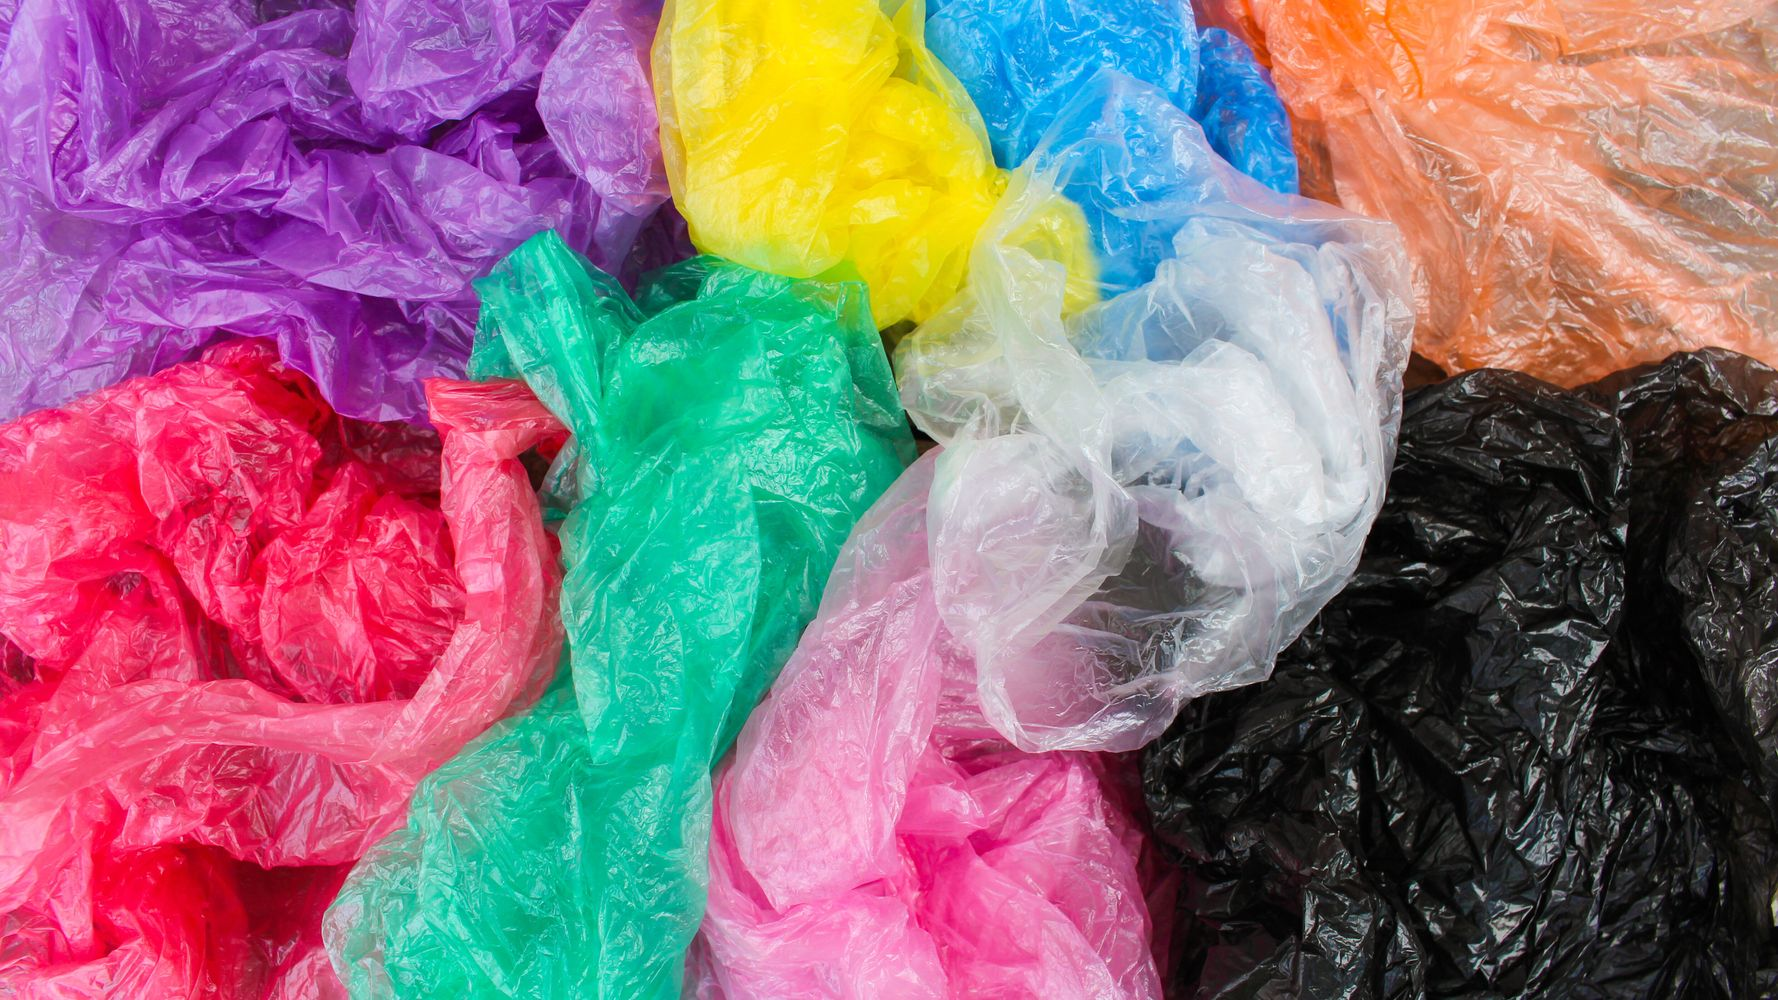plastic_bagwdw: (1003, 253, 1769, 1000), (844, 126, 1501, 847), (652, 292, 1238, 1000), (1, 10, 764, 548), (1123, 1, 1778, 600), (7, 366, 545, 1000), (359, 158, 740, 1000), (589, 7, 1189, 515)
